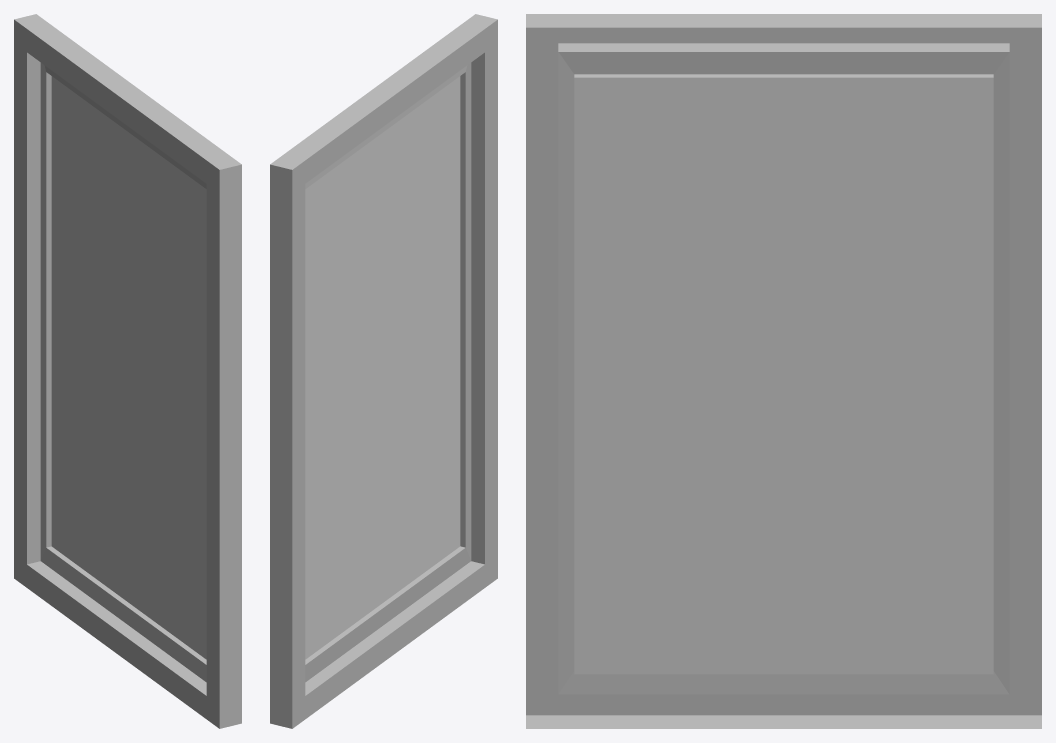
The model's file is SM_Frames_20x30.fbx.
3 views of the same model, side by side, from view 1: azimuth 30°, elevation 25°; view 2: azimuth 150°, elevation 25°; view 3: azimuth 270°, elevation 25° (orthographic). The views are drawn at different scales.
Parts seen in each view (by area): view 1: SM_Frames_20x30_LOD0; view 2: SM_Frames_20x30_LOD0; view 3: SM_Frames_20x30_LOD0.
Part boxes in pixels (x1,y1,x2,y2): SM_Frames_20x30_LOD0: [14, 14, 241, 728]; SM_Frames_20x30_LOD0: [270, 14, 497, 728]; SM_Frames_20x30_LOD0: [526, 14, 1041, 728].
Bounding box in the file's own units: 1.25 × 20 × 30.
